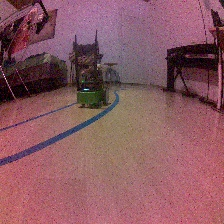rob: (76, 63, 110, 108)
